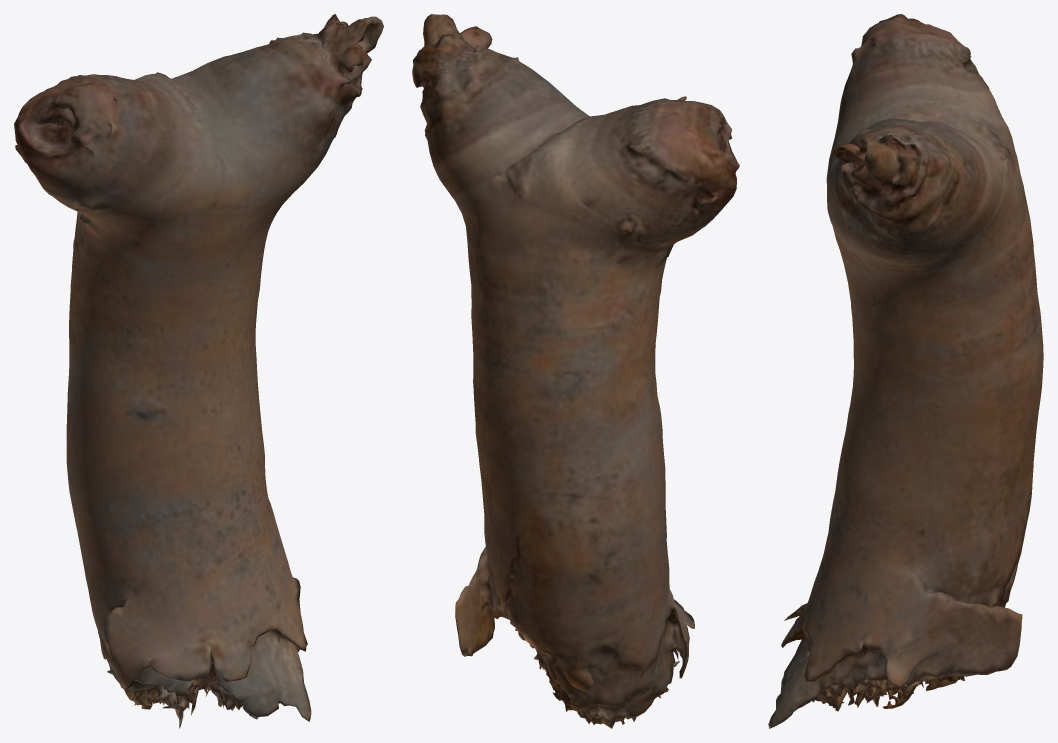
3 views of the same model, side by side, from view 1: azimuth 30°, elevation 25°; view 2: azimuth 150°, elevation 25°; view 3: azimuth 270°, elevation 25° (orthographic).
Parts seen in each view (by area): view 1: dead_quiver_branch_02; view 2: dead_quiver_branch_02; view 3: dead_quiver_branch_02.
Part boxes in pixels (x1,y1,x2,y2): dead_quiver_branch_02: (14,14,383,728); dead_quiver_branch_02: (412,14,739,728); dead_quiver_branch_02: (768,14,1043,728).
Size of the model in its own units: 0.2873 by 0.5264 by 0.201.
1 material, 1 textured.
